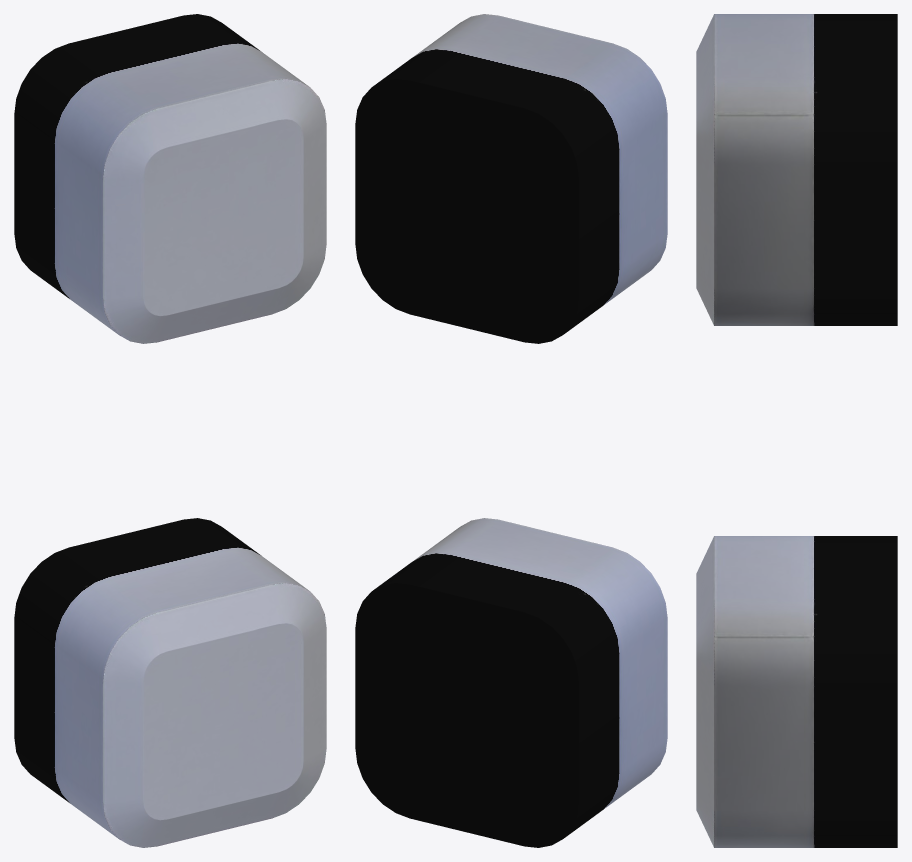
File: Web_GK_Floppy_Button_Dummy.glb
3 renders of one model, left to right at view 1: azimuth 30°, elevation 25°; view 2: azimuth 150°, elevation 25°; view 3: azimuth 270°, elevation 25°, orthographic. The views are drawn at different scales.
Visible parts, largest first — view 1: Cube.010; view 2: Cube.010; view 3: Cube.010.
Boxes of the visible parts, bbox=[...] form: Cube.010: bbox=[14, 14, 326, 847]; Cube.010: bbox=[355, 14, 667, 847]; Cube.010: bbox=[696, 14, 897, 847].
Size of the model in its own units: 0.1982 by 0.6248 by 0.1491.
Materials: 2 (2 with a texture image).
